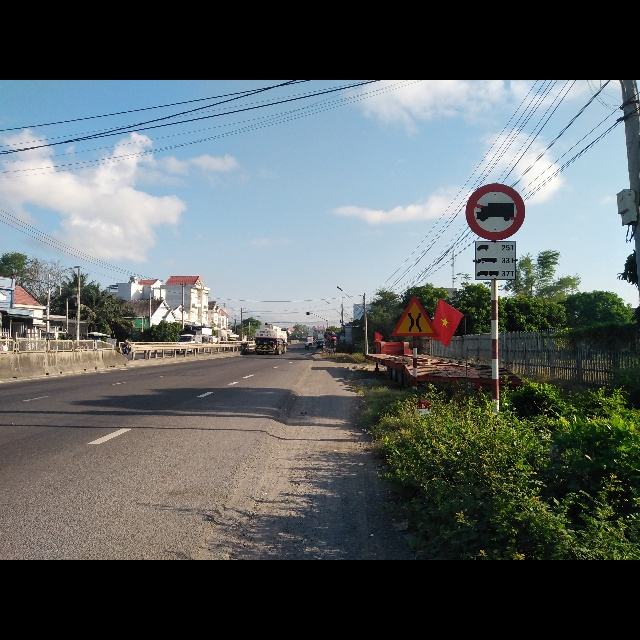Cấm xe tải: (465, 183, 524, 241)
Cầu hẹp: (393, 297, 438, 339)
